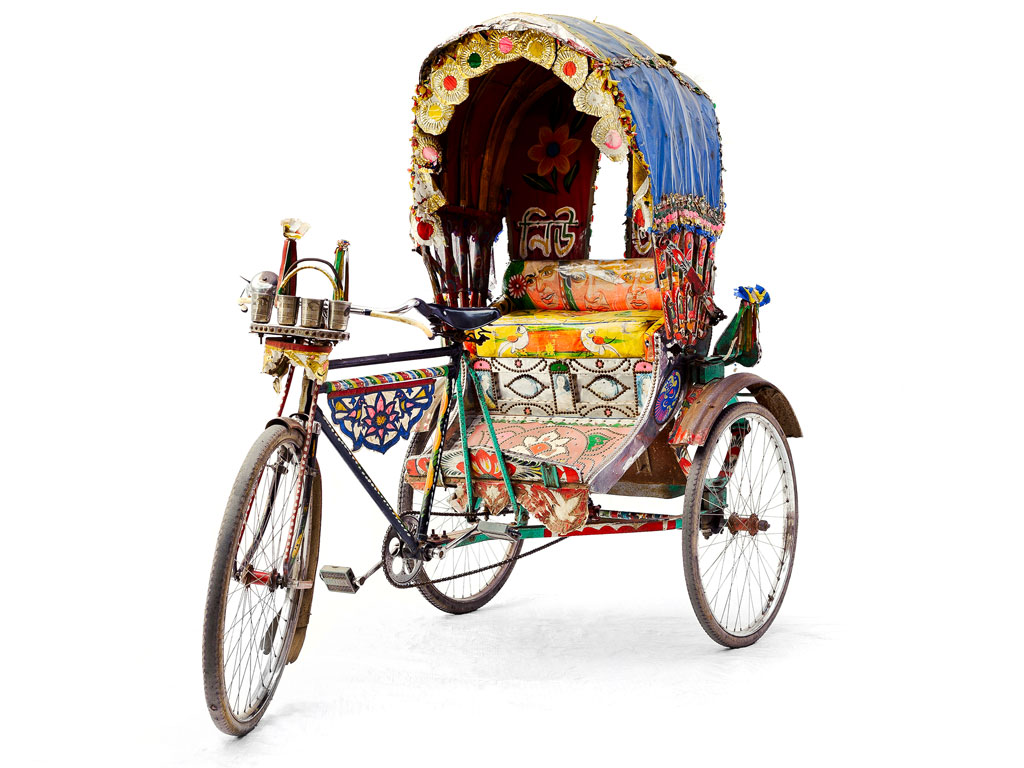Rickshaw: (192, 19, 798, 735)
